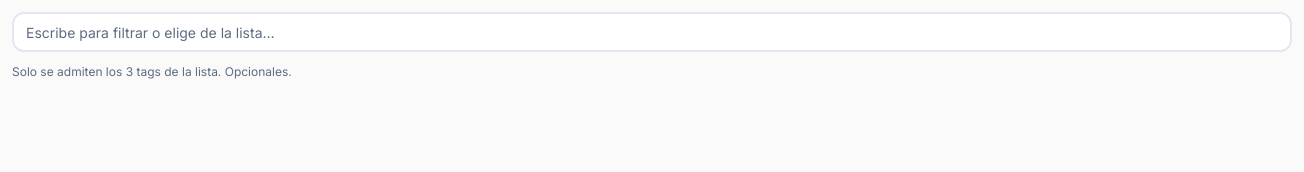
Test case: TagPicker › filters options case-insensitively
Type "graph" into the dropdown. click: (652, 32)
box: [12, 12, 1292, 52]
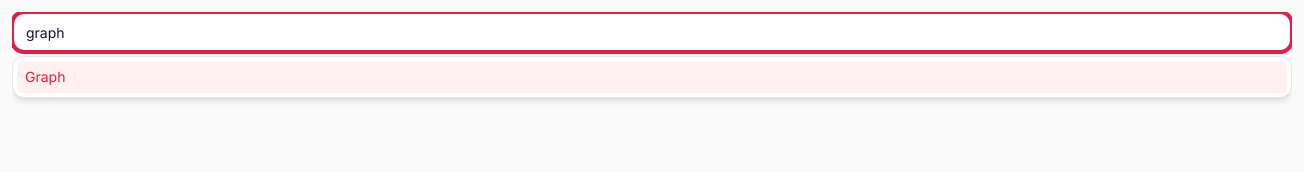
Expected: the option "Graph" is shown, [17, 61, 1287, 93]
Expected: the option "DP" is gone
